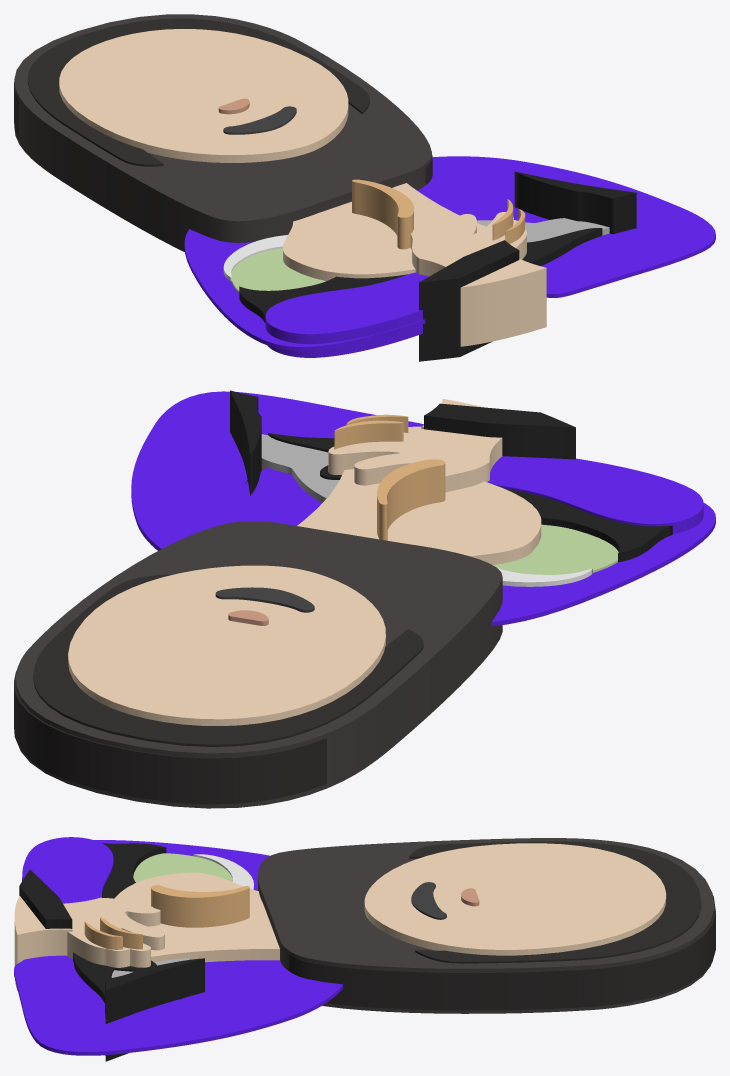
File: emoji_u1f931_1f3fb.glb
3 renders of one model, top to bottom at view 1: azimuth 30°, elevation 25°; view 2: azimuth 150°, elevation 25°; view 3: azimuth 270°, elevation 25°, orthographic. The views are drawn at different scales.
Visible parts, largest first — view 1: emoji_u1f931_1f3fb; view 2: emoji_u1f931_1f3fb; view 3: emoji_u1f931_1f3fb.
Boxes of the visible parts, box(x1,y1,x2,y2) form: emoji_u1f931_1f3fb: box(14, 14, 715, 361); emoji_u1f931_1f3fb: box(14, 390, 715, 808); emoji_u1f931_1f3fb: box(14, 837, 715, 1061).
Size of the model in its own units: 0.0242 by 0.0046 by 0.0339.
